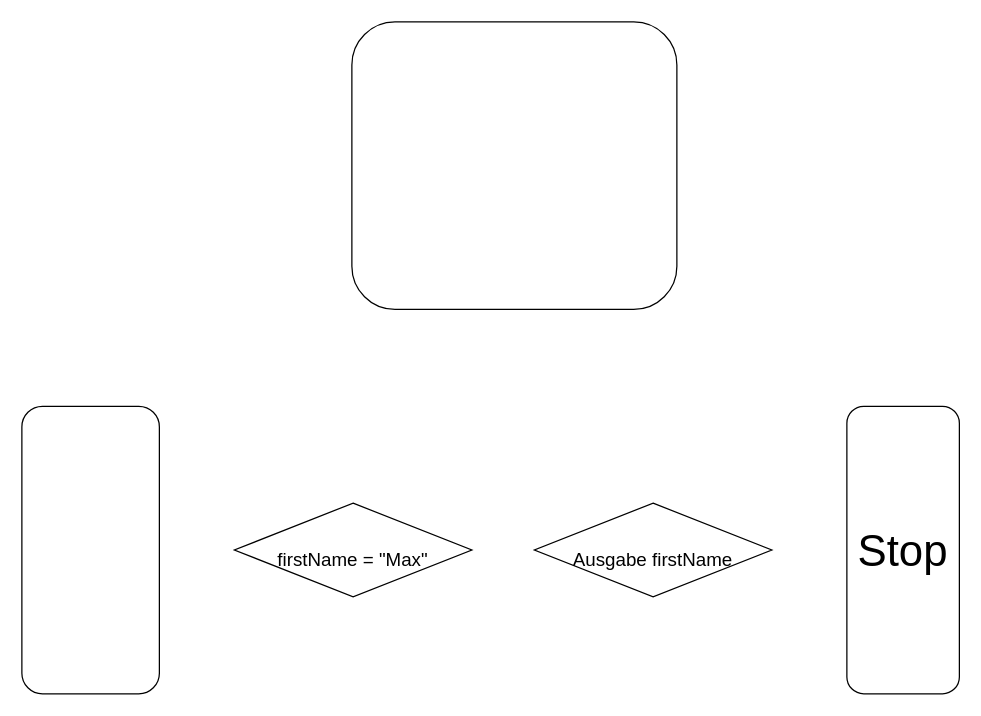
The diagram is 981 pixels wide and 716 high, and some of its shapes have lost their labels. The centre of each missing label's shape, as x and y in pixels:
Programm- Ablauf- Plan: point (514, 165)
Start: point (90, 549)
